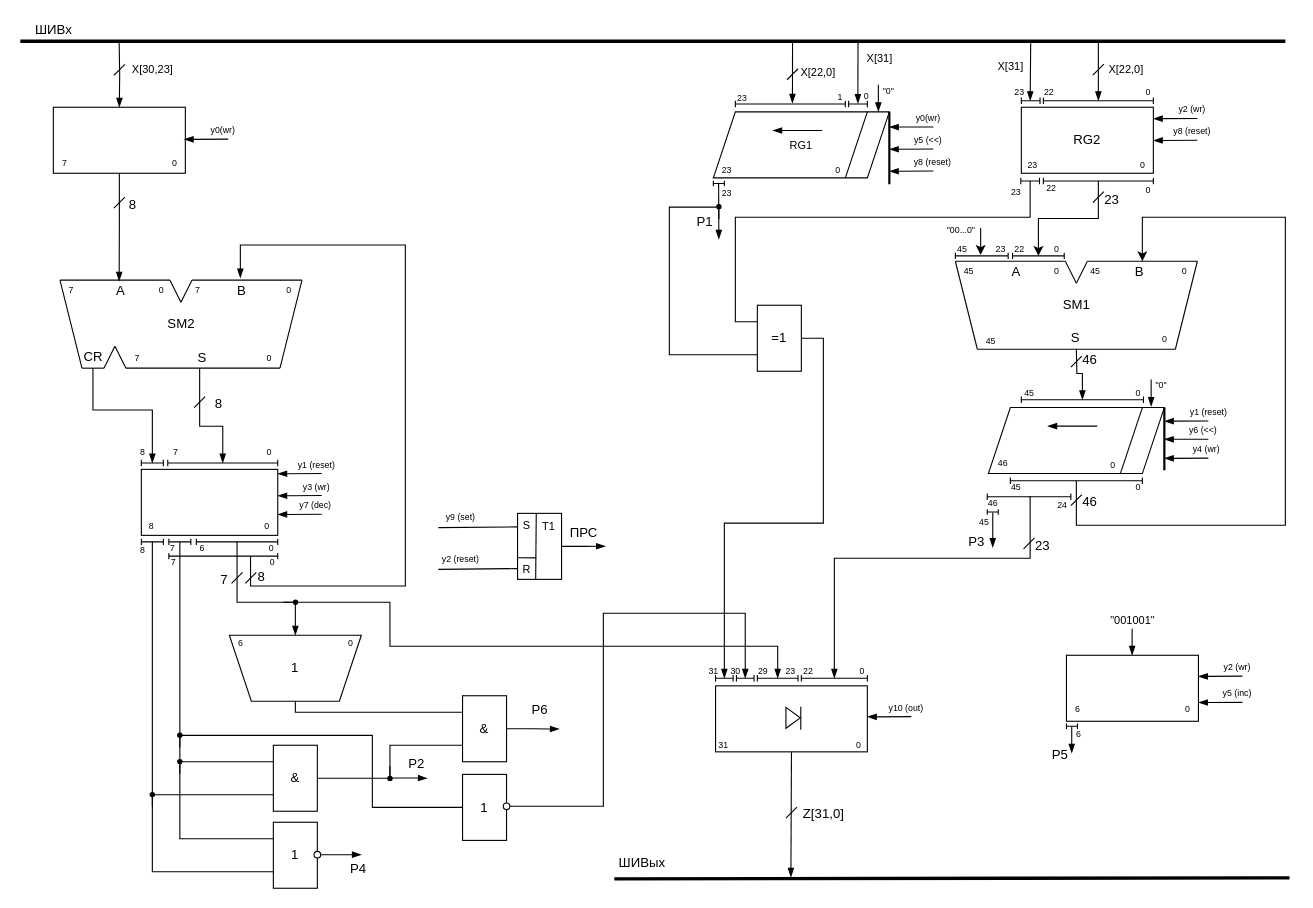
The diagram is 1313 pixels wide and 908 high, and some of its shapes have lost their labels. Each missing label, with the box of its shape:
CT1: (140, 468, 278, 535)
CT2: (1065, 654, 1198, 721)
RG3: (987, 406, 1164, 474)
RG4: (52, 106, 185, 173)
